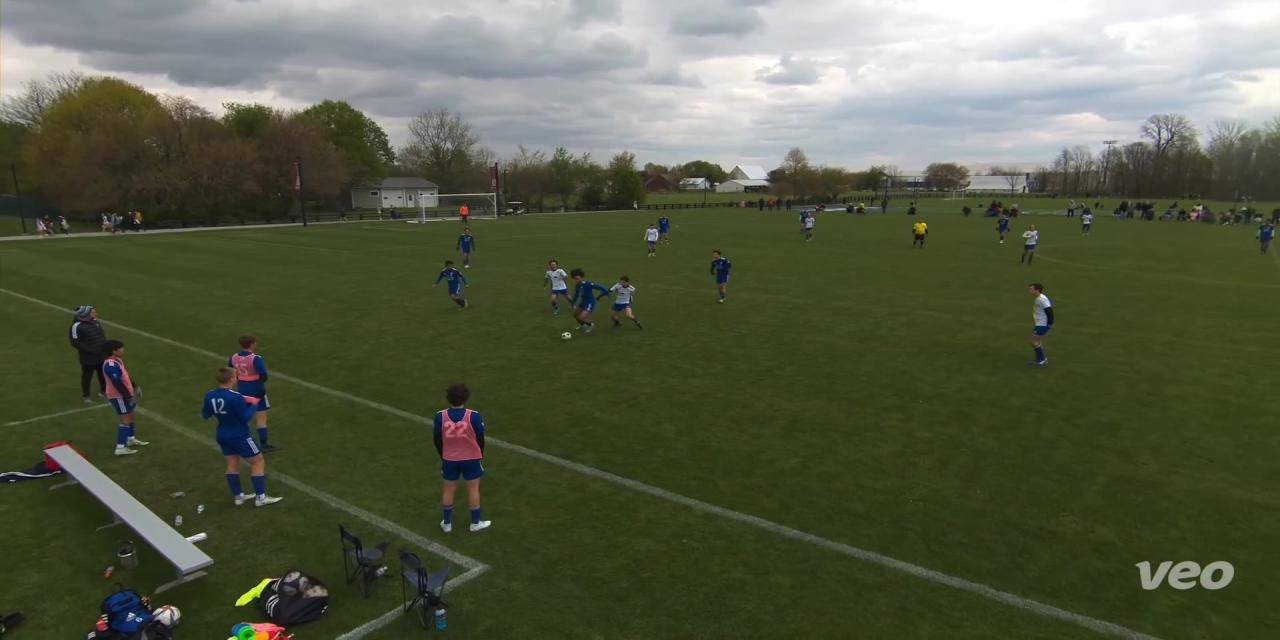sports ball: (404, 191, 513, 228), (557, 328, 576, 345)
